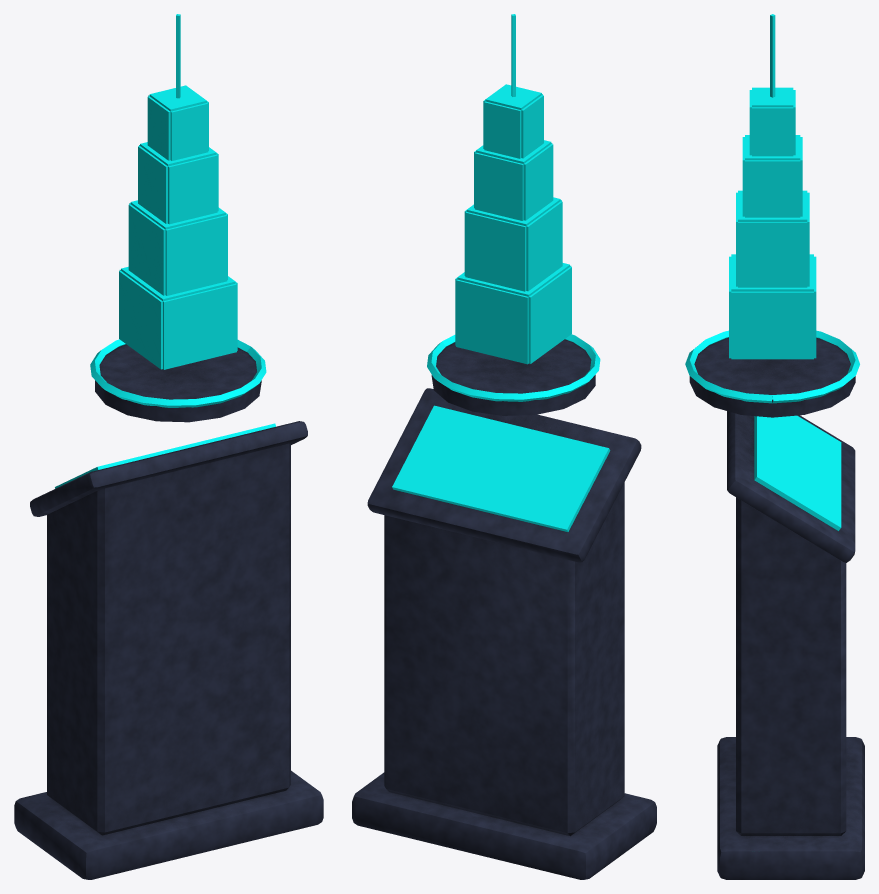
The model's file is build_terminal.fbx.
3 views of the same model, side by side, from view 1: azimuth 30°, elevation 25°; view 2: azimuth 150°, elevation 25°; view 3: azimuth 270°, elevation 25° (orthographic).
Parts seen in each view (by area): view 1: build_terminal, build_terminal_glow; view 2: build_terminal, build_terminal_glow; view 3: build_terminal, build_terminal_glow.
Part boxes in pixels (x1,y1,x2,y2): build_terminal: (14, 344, 323, 879); build_terminal_glow: (90, 14, 266, 407); build_terminal: (352, 339, 656, 879); build_terminal_glow: (427, 14, 600, 401); build_terminal: (689, 338, 864, 879); build_terminal_glow: (685, 14, 859, 403).
Size of the model in its own units: 300 by 970 by 195.
1 material, 1 textured.
